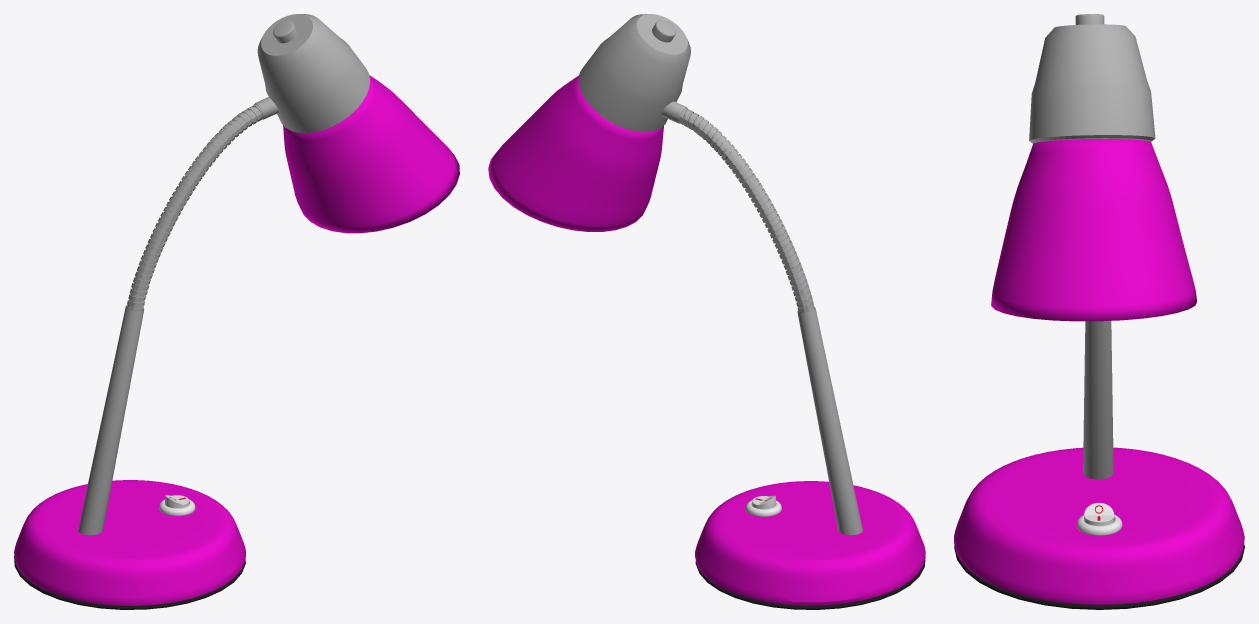
Rendered from masa lambasi.fbx.
3 views of the same model, side by side, from view 1: azimuth 30°, elevation 25°; view 2: azimuth 150°, elevation 25°; view 3: azimuth 270°, elevation 25° (orthographic). The views are drawn at different scales.
Parts seen in each view (by area): view 1: Retopo_Цилиндр, Retopo_Цилиндр.008, Цилиндр.003, Цилиндр.002, Retopo_КриваяБезье.001, Цилиндр.001; view 2: Retopo_Цилиндр, Retopo_Цилиндр.008, Цилиндр.003, Цилиндр.002, Retopo_КриваяБезье.001, Цилиндр.001; view 3: Retopo_Цилиндр, Retopo_Цилиндр.008, Цилиндр.003, Цилиндр.002, Цилиндр.001, Retopo_Цилиндр.001, Retopo_Цилиндр.005.
Part boxes in pixels (<box>): Retopo_Цилиндр: <box>14,480,245,605</box>; Retopo_Цилиндр.008: <box>283,75,459,233</box>; Цилиндр.003: <box>257,14,370,133</box>; Цилиндр.002: <box>78,305,144,535</box>; Retopo_КриваяБезье.001: <box>127,104,262,311</box>; Цилиндр.001: <box>14,556,245,609</box>; Retopo_Цилиндр: <box>695,481,925,605</box>; Retopo_Цилиндр.008: <box>488,75,663,231</box>; Цилиндр.003: <box>578,14,690,132</box>; Цилиндр.002: <box>797,307,862,535</box>; Retopo_КриваяБезье.001: <box>679,108,814,312</box>; Цилиндр.001: <box>695,557,925,609</box>; Retopo_Цилиндр: <box>954,447,1244,604</box>; Retopo_Цилиндр.008: <box>991,139,1196,321</box>; Цилиндр.003: <box>1029,14,1155,143</box>; Цилиндр.002: <box>1083,321,1113,479</box>; Цилиндр.001: <box>954,545,1244,609</box>; Retopo_Цилиндр.001: <box>1084,503,1114,525</box>; Retopo_Цилиндр.005: <box>1076,514,1122,535</box>.
Size of what is drawn, in the model's own units: 609 by 704 by 294.
